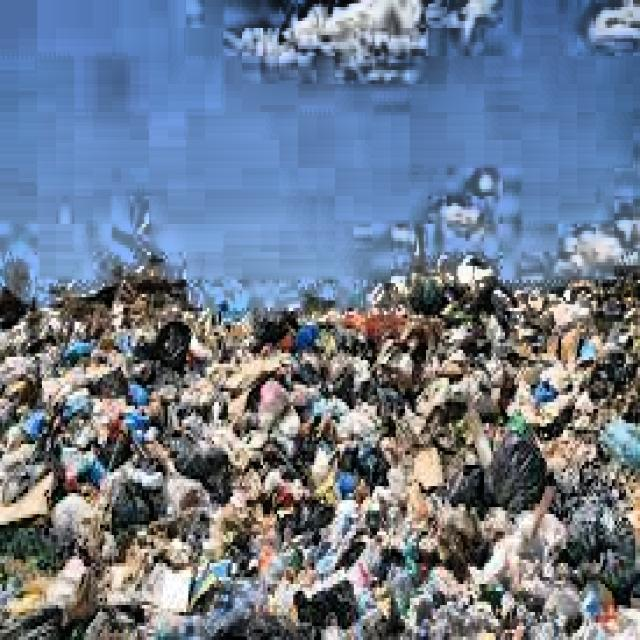garbage: (2, 287, 638, 636)
